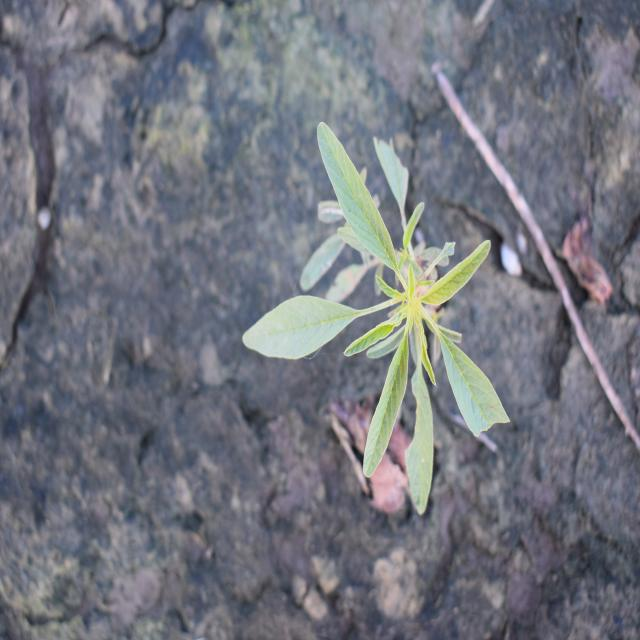Waterhemp: (239, 118, 512, 520)
